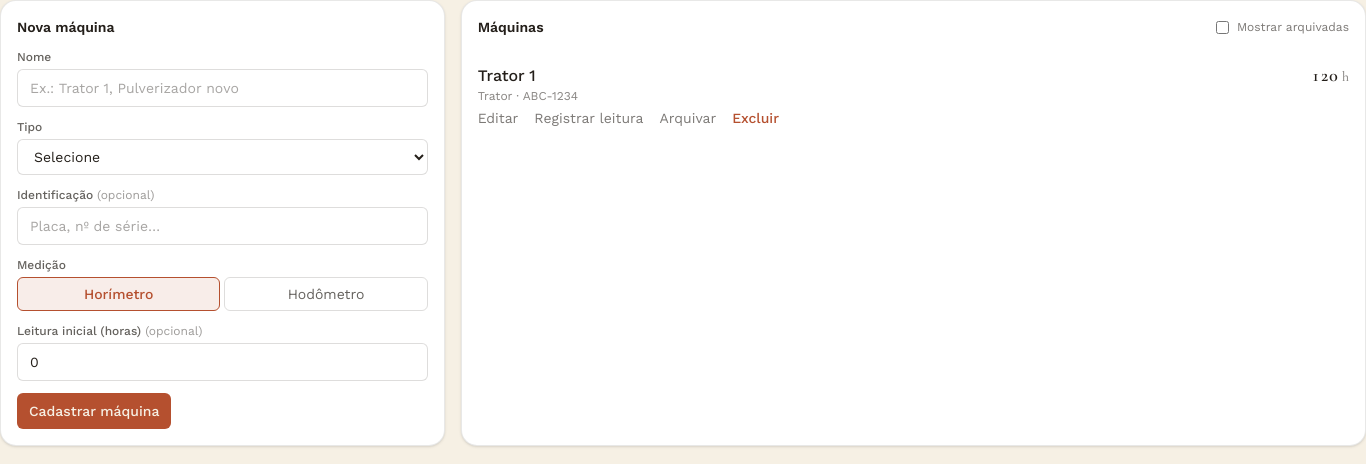
MachinesTab › bloqueia registrar leitura menor que a atual
Click the button "Registrar leitura": x=589, y=118 [534, 108, 644, 128]
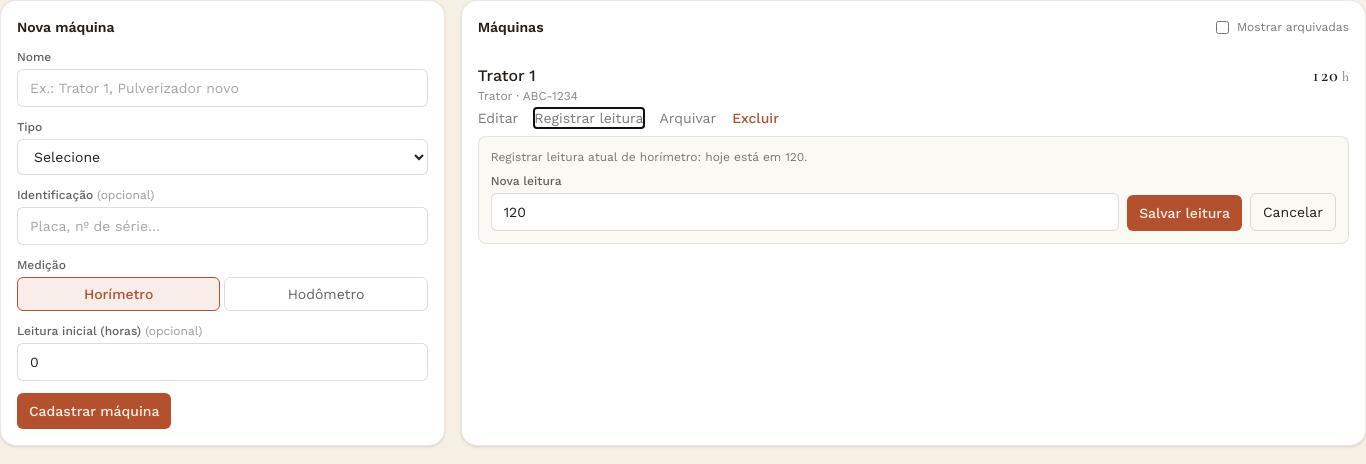
Replace the text in the number field labelled "Nova leitura" with "100": x=805, y=212 [491, 193, 1119, 231]
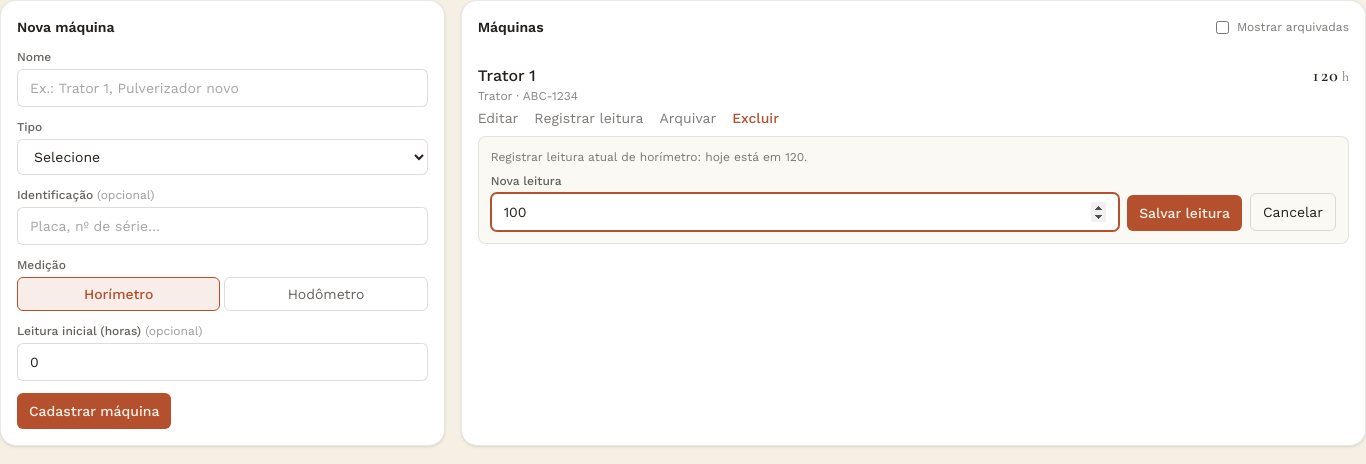
Click the button "Salvar leitura": x=1185, y=213 [1127, 195, 1242, 231]
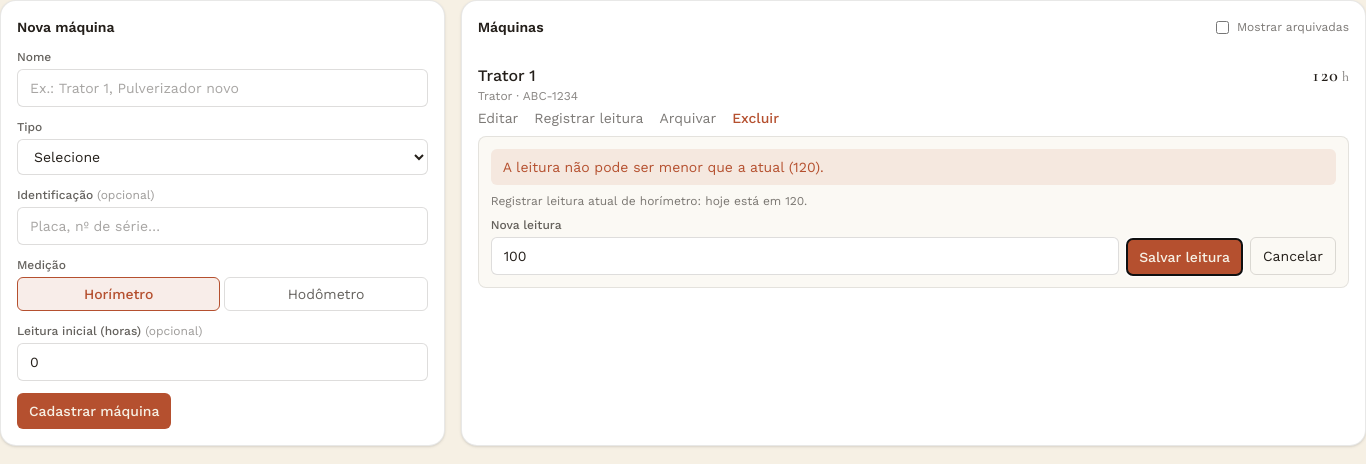
expect the text "A leitura não pode ser menor que a atual (120)." is shown: met, box [491, 149, 1336, 185]
